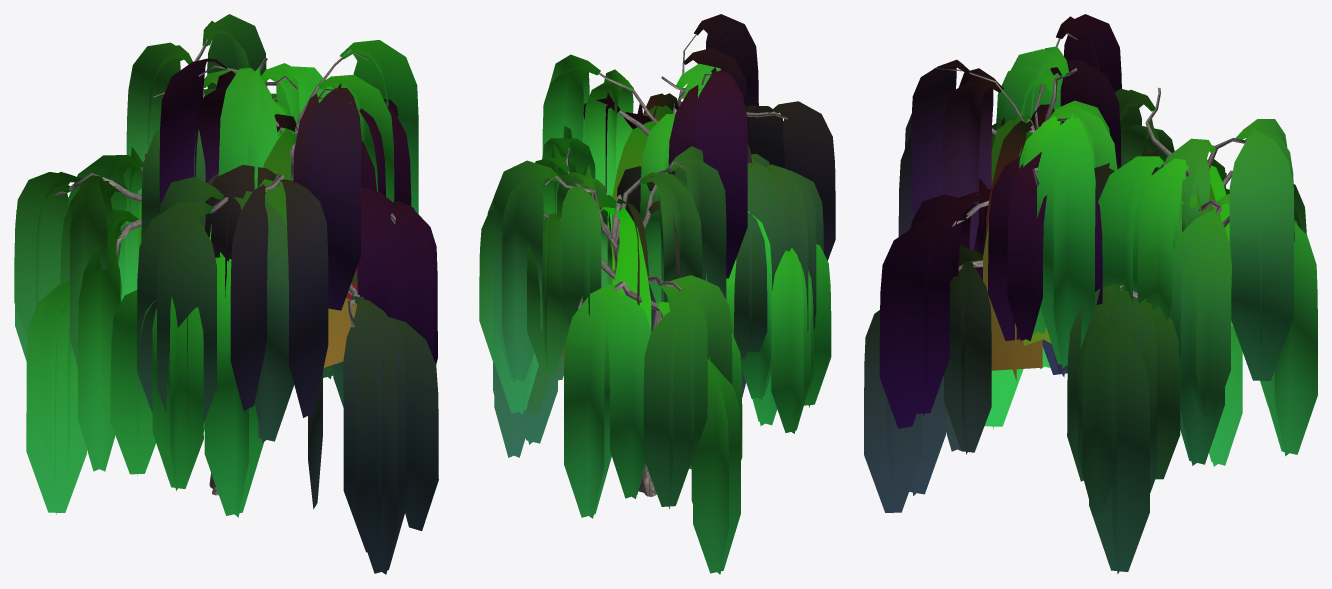
The picture shows the model from 3 angles, left to right: view 1: azimuth 30°, elevation 25°; view 2: azimuth 150°, elevation 25°; view 3: azimuth 270°, elevation 25°; orthographic projection. The views are drawn at different scales.
Visible parts, largest first — view 1: Tree_0; view 2: Tree_0; view 3: Tree_0.
Part boxes in pixels (bbox=[...]): Tree_0: bbox=[14, 14, 438, 574]; Tree_0: bbox=[479, 14, 835, 574]; Tree_0: bbox=[864, 14, 1317, 574].
Size of the model in its own units: 49.84 by 71.83 by 61.25.
